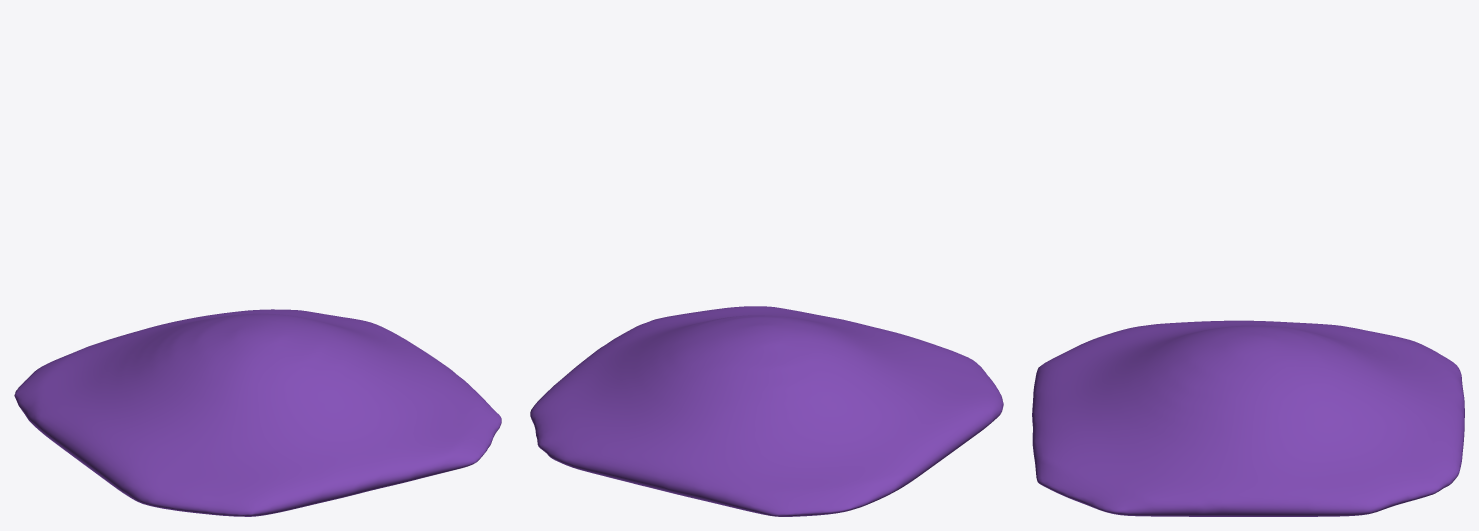
The model's file is slime_0039.dae.
3 views of the same model, side by side, from view 1: azimuth 30°, elevation 25°; view 2: azimuth 150°, elevation 25°; view 3: azimuth 270°, elevation 25° (orthographic). The views are drawn at different scales.
Parts seen in each view (by area): view 1: Slime; view 2: Slime; view 3: Slime.
Boxes of the visible parts, x1,y1,x2,y2 form: Slime: (14,309,501,516); Slime: (530,306,1003,516); Slime: (1032,320,1464,516).
Bounding box in the file's own units: 3.5 × 3.77 × 3.51.
